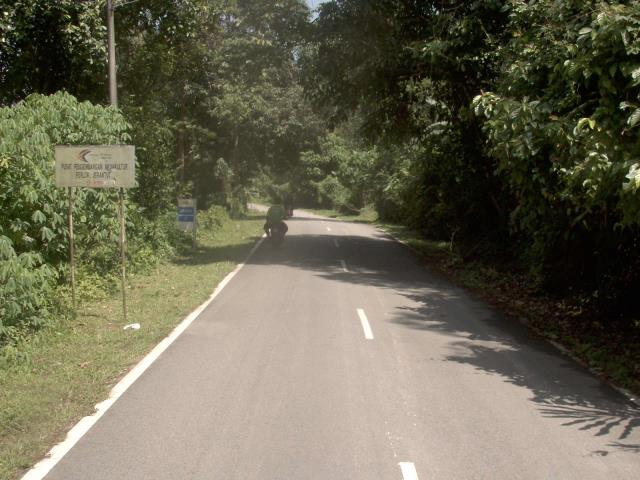ads_sign: (42, 136, 146, 197)
